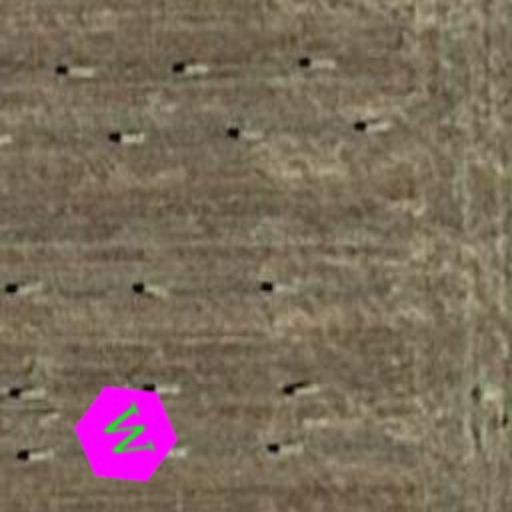hexagon: (56, 364, 196, 504)
